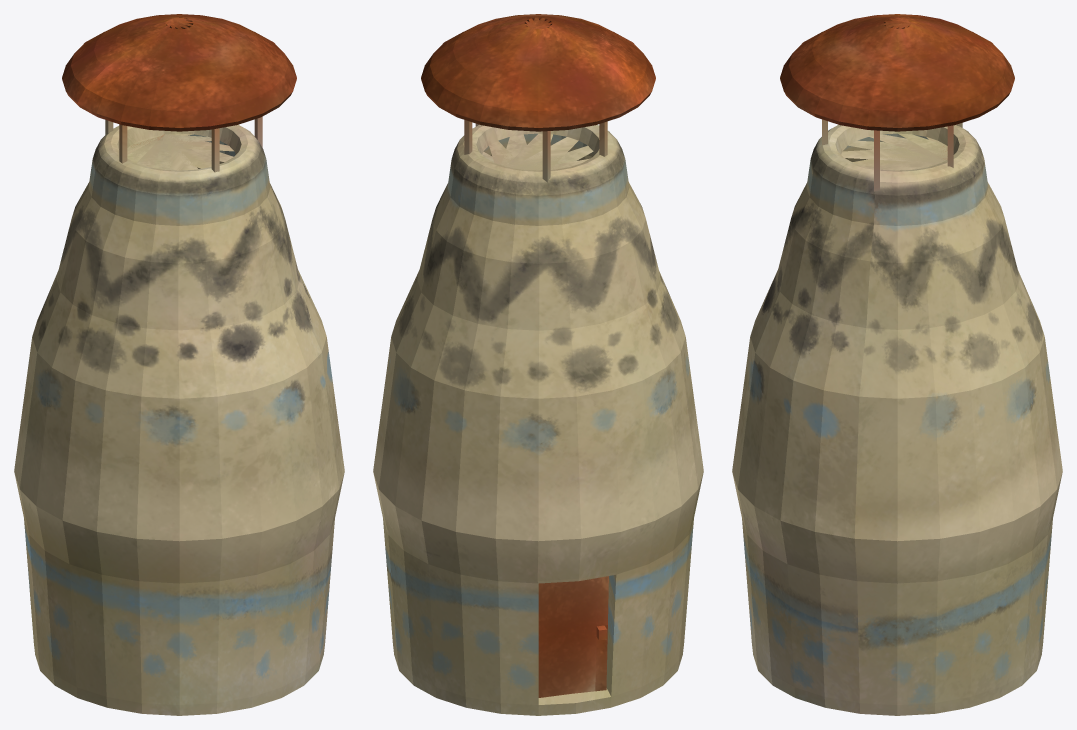
Rendered from towertexture.fbx.
The picture shows the model from 3 angles, left to right: view 1: azimuth 30°, elevation 25°; view 2: azimuth 150°, elevation 25°; view 3: azimuth 270°, elevation 25°; orthographic projection.
Parts seen in each view (by area): view 1: tower; view 2: tower; view 3: tower.
Boxes of the visible parts, x1,y1,x2,y2 form: tower: (14,14,344,715); tower: (373,14,703,715); tower: (732,14,1062,715).
Bounding box in the file's own units: 229 × 483 × 229.
1 material, 1 textured.
